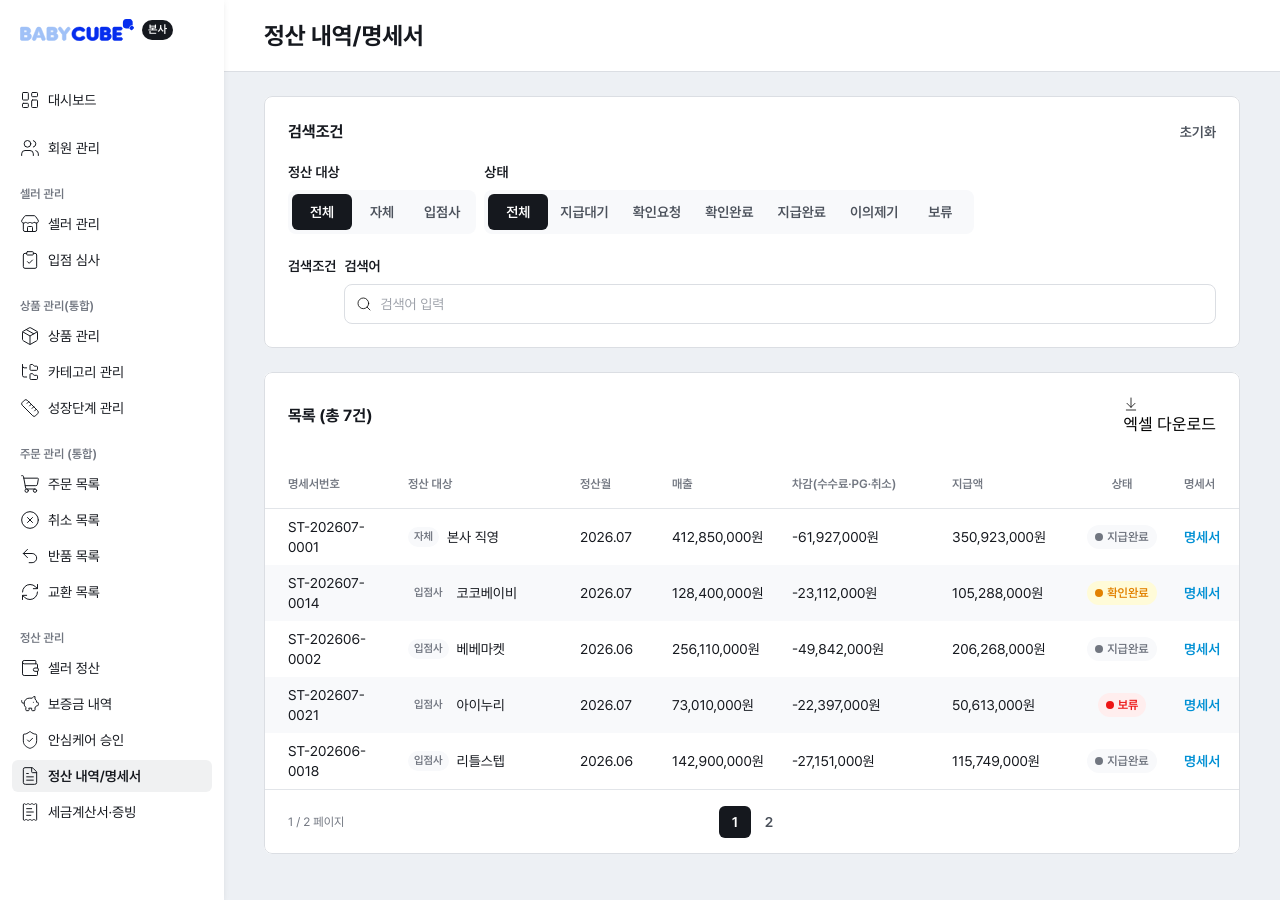
Scenario: SettlementStatementPage (BabyCube S15 정산 내역/명세서) › 두 축 필터 (원본 `chips`: 정산 대상 · 상태) › 상태 필터가 있어 '아직 안 끝난 명세'만 볼 수 있다
Click the radio button labelled "이의제기" at [874, 212], box 838,194 -> 910,230
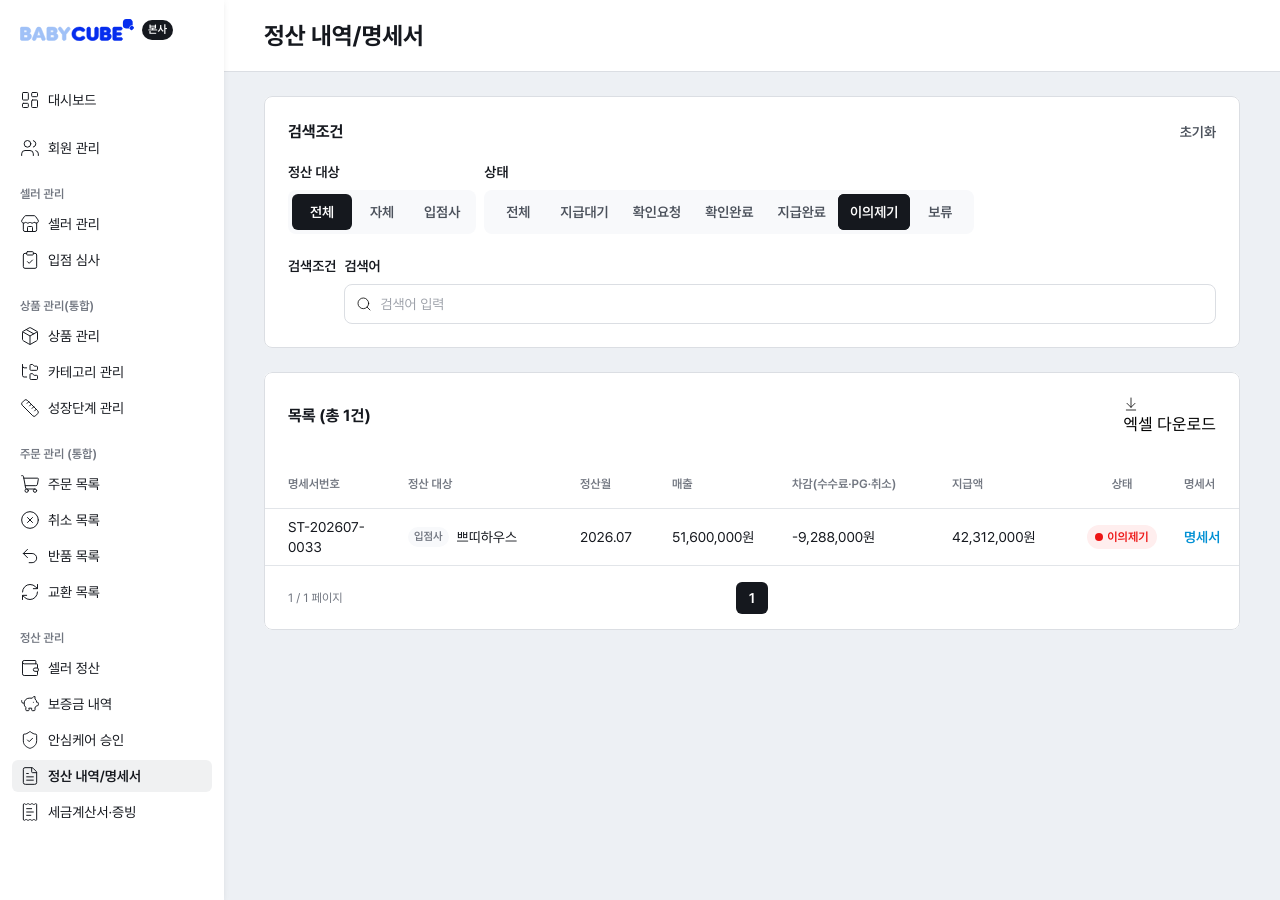
Expected: the heading "목록 (총 1건)" is shown, 288,404 -> 371,428
